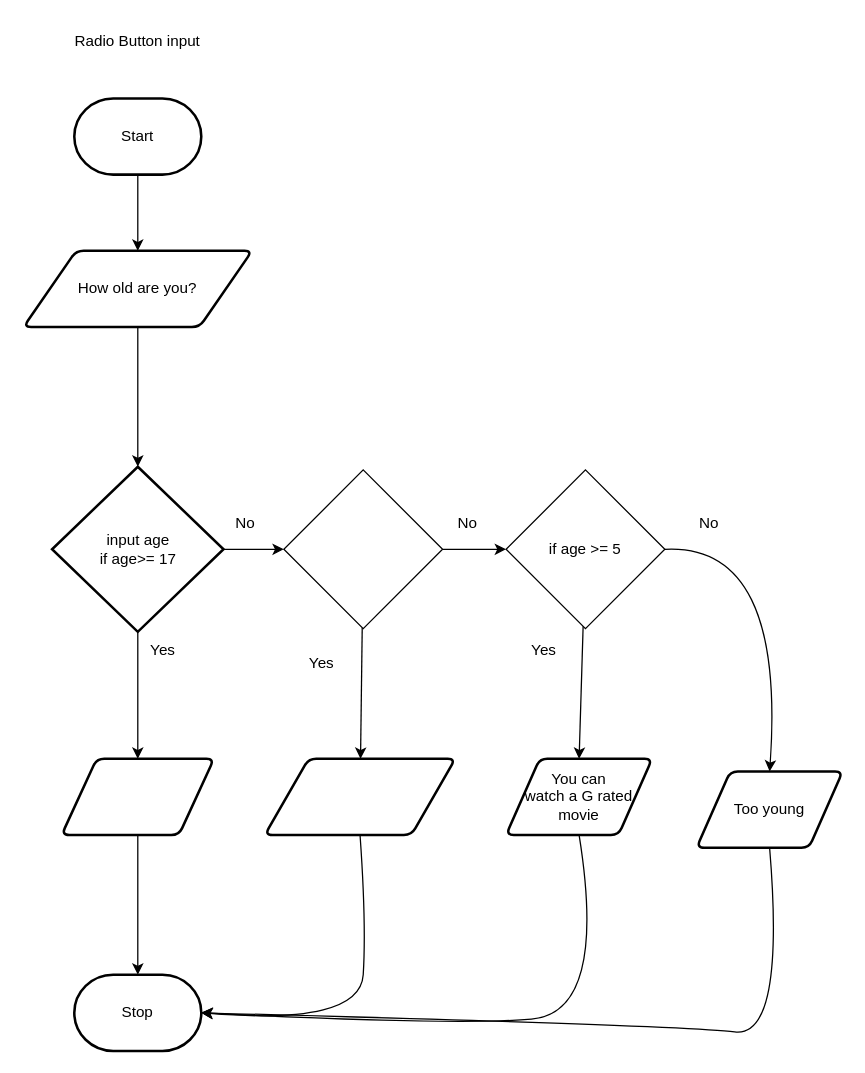
Image size: 865x1073. Some labels were removed from this diagram. The box of each missing label's shape, as (x1, y1, x2, y2) in pixels:
if age >= 13: (283, 469, 443, 629)
You can watch a PG-13 Movie: (263, 757, 456, 836)
You can watch an R-rated movie: (60, 757, 215, 836)
